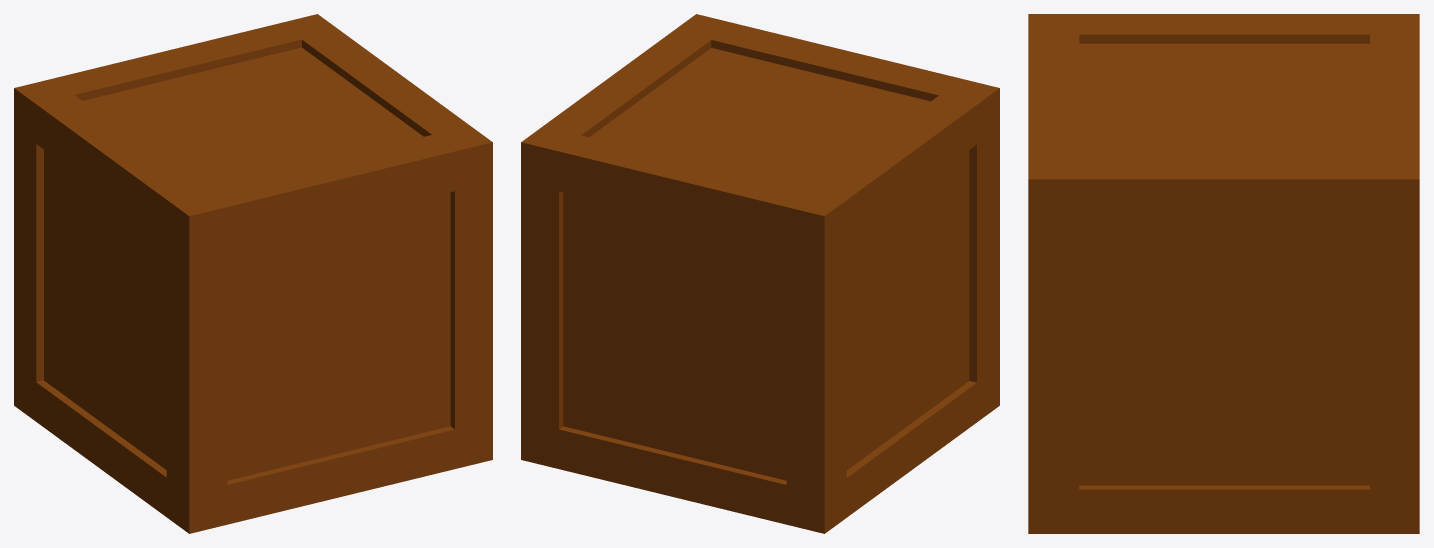
Rendered from CrateSmall.fbx.
The picture shows the model from 3 angles, left to right: view 1: azimuth 30°, elevation 25°; view 2: azimuth 150°, elevation 25°; view 3: azimuth 270°, elevation 25°; orthographic projection. The views are drawn at different scales.
Visible parts, largest first — view 1: CrateSmall; view 2: CrateSmall; view 3: CrateSmall.
Boxes of the visible parts, x1,y1,x2,y2 form: CrateSmall: (14,14,492,533); CrateSmall: (521,14,999,533); CrateSmall: (1028,14,1419,533).
Size of the model in its own units: 100 by 100 by 100.
